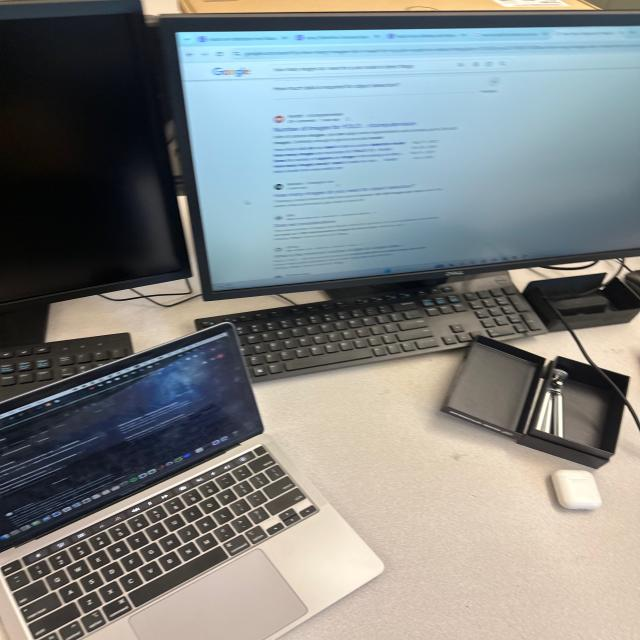monitor: (0, 441, 323, 640), (197, 278, 551, 381), (0, 328, 141, 406)
robotic-arm: (156, 9, 640, 316), (0, 2, 204, 308)
